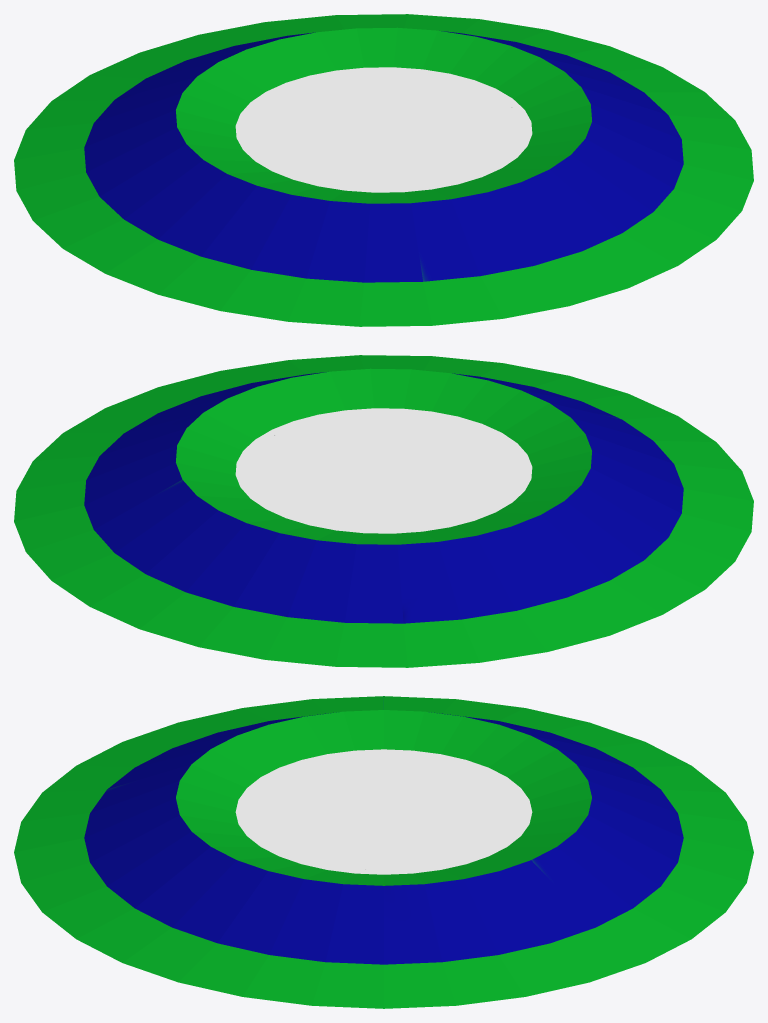
The model's file is finish_platform.fbx.
The picture shows the model from 3 angles, top to bottom: view 1: azimuth 30°, elevation 25°; view 2: azimuth 150°, elevation 25°; view 3: azimuth 270°, elevation 25°; orthographic projection.
Visible parts, largest first — view 1: Circle; view 2: Circle; view 3: Circle.
Part boxes in pixels (box(x1,y1,x2,y2)): Circle: box(14, 14, 753, 326); Circle: box(14, 355, 753, 667); Circle: box(14, 696, 753, 1008).
Bounding box in the file's own units: 3.7 × 0.3014 × 3.7.
Materials: 1 (1 with a texture image).
